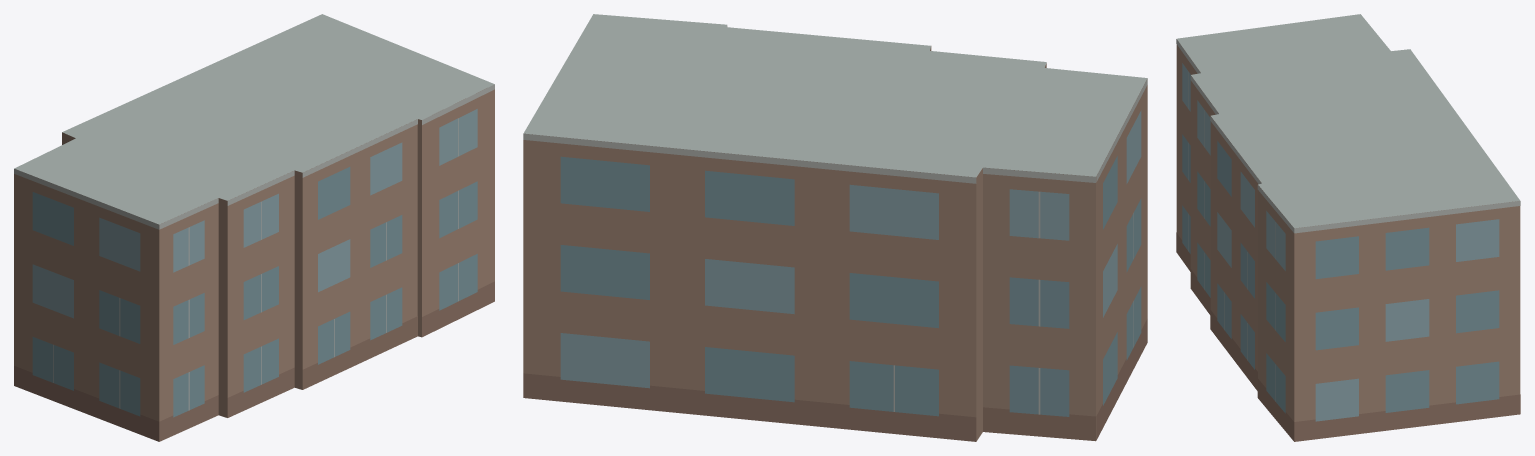
The model's file is survey-upis-32655366.glb.
3 renders of one model, left to right at view 1: azimuth 30°, elevation 25°; view 2: azimuth 150°, elevation 25°; view 3: azimuth 270°, elevation 25°, orthographic. The views are drawn at different scales.
Visible parts, largest first — view 1: survey-upis-32655366.tmp; view 2: survey-upis-32655366.tmp; view 3: survey-upis-32655366.tmp.
Boxes of the visible parts, left/top/right/bottom form: survey-upis-32655366.tmp: left=14, top=14, right=494, bottom=441; survey-upis-32655366.tmp: left=523, top=14, right=1147, bottom=441; survey-upis-32655366.tmp: left=1176, top=14, right=1520, bottom=441.
Size of the model in its own units: 21.97 by 10.2 by 14.9.
